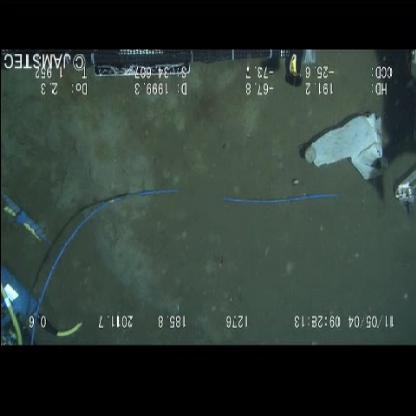Rov: (1, 48, 321, 90)
Rác: (300, 112, 394, 184)
